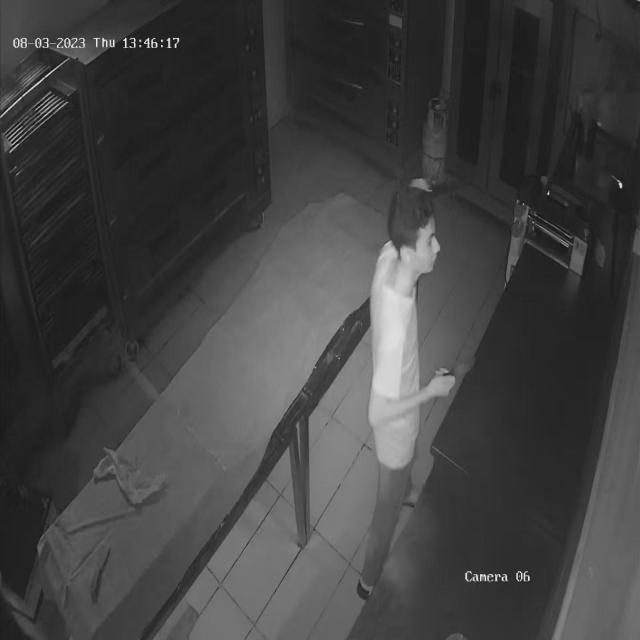Knife: (411, 163, 473, 201)
